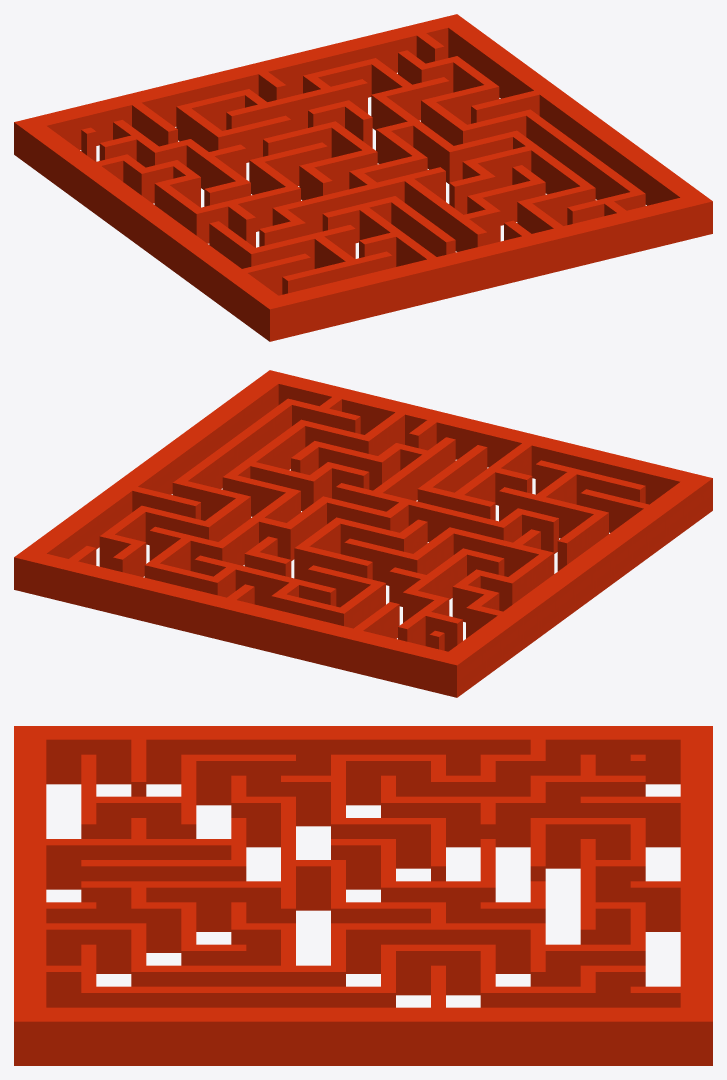
The model's file is mazes3.fbx.
3 renders of one model, top to bottom at view 1: azimuth 30°, elevation 25°; view 2: azimuth 150°, elevation 25°; view 3: azimuth 270°, elevation 25°, orthographic. The views are drawn at different scales.
Parts seen in each view (by area): view 1: Plane.002; view 2: Plane.002; view 3: Plane.002.
Boxes of the visible parts, x1,y1,x2,y2 form: Plane.002: [14, 14, 712, 341]; Plane.002: [14, 370, 712, 697]; Plane.002: [14, 726, 712, 1065].
Bounding box in the file's own units: 985 × 69 × 985.
